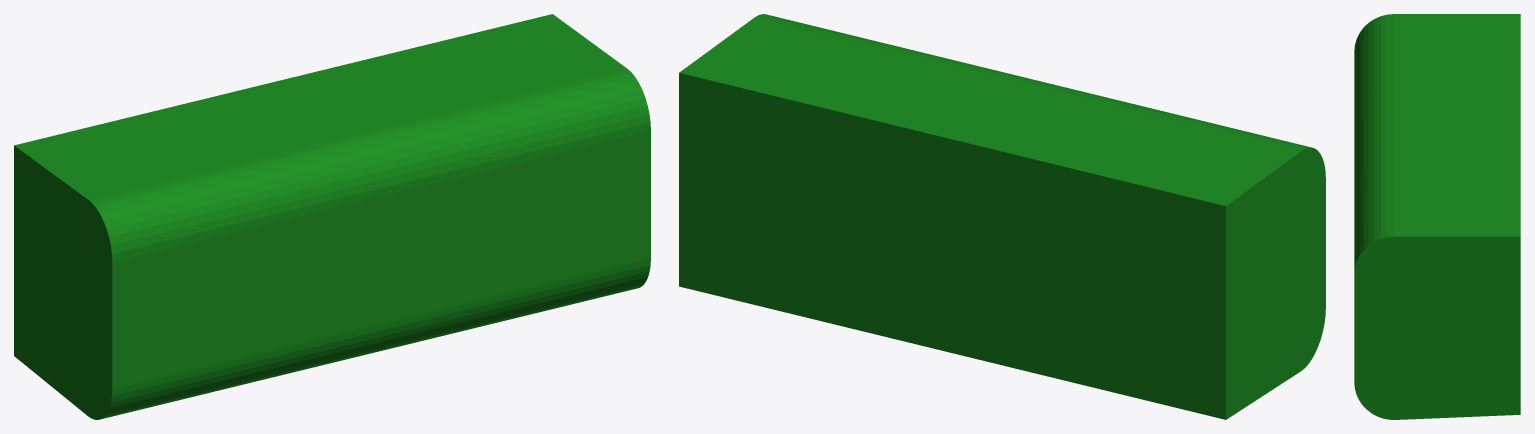
3 renders of one model, left to right at view 1: azimuth 30°, elevation 25°; view 2: azimuth 150°, elevation 25°; view 3: azimuth 270°, elevation 25°, orthographic. The views are drawn at different scales.
Visible parts, largest first — view 1: decomp_8.obj; view 2: decomp_8.obj; view 3: decomp_8.obj.
Part boxes in pixels (<box>): decomp_8.obj: <box>14,14,650,419</box>; decomp_8.obj: <box>679,14,1325,419</box>; decomp_8.obj: <box>1354,14,1520,419</box>.
Bounding box in the file's own units: 0.0273 × 0.0105 × 0.00862.
